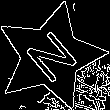N_SE: (18, 24, 83, 89)
